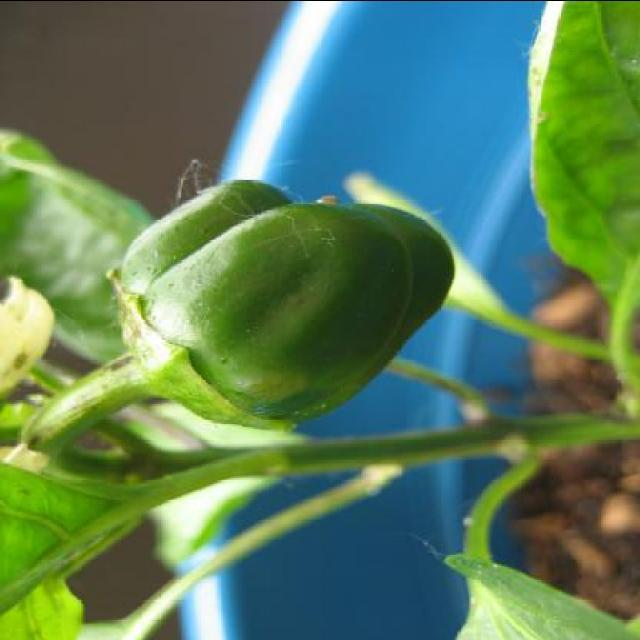Bell pepper: (94, 181, 457, 439)
